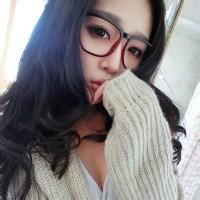face: (76, 1, 150, 107)
